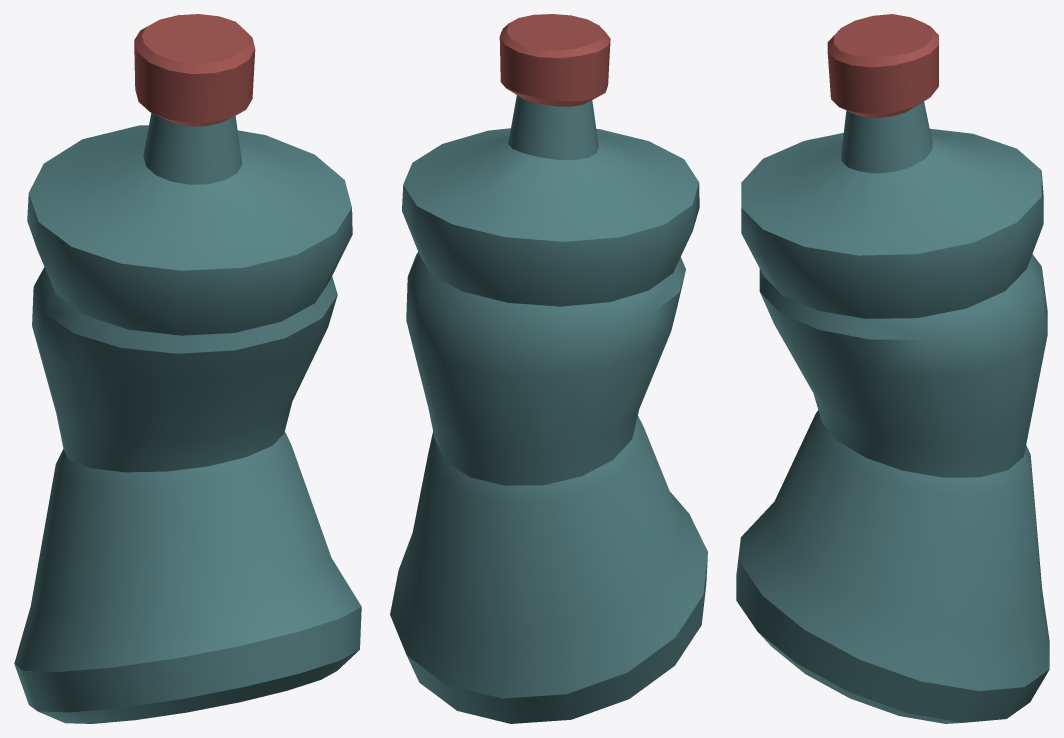
File: Botella_04.fbx
3 views of the same model, side by side, from view 1: azimuth 30°, elevation 25°; view 2: azimuth 150°, elevation 25°; view 3: azimuth 270°, elevation 25° (orthographic). The views are drawn at different scales.
Visible parts, largest first — view 1: Botella_04; view 2: Botella_04; view 3: Botella_04.
Part boxes in pixels (<box>): Botella_04: <box>14,14,361,723</box>; Botella_04: <box>390,14,707,723</box>; Botella_04: <box>736,14,1049,723</box>.
Bounding box in the file's own units: 23.4 × 51.83 × 22.28.
